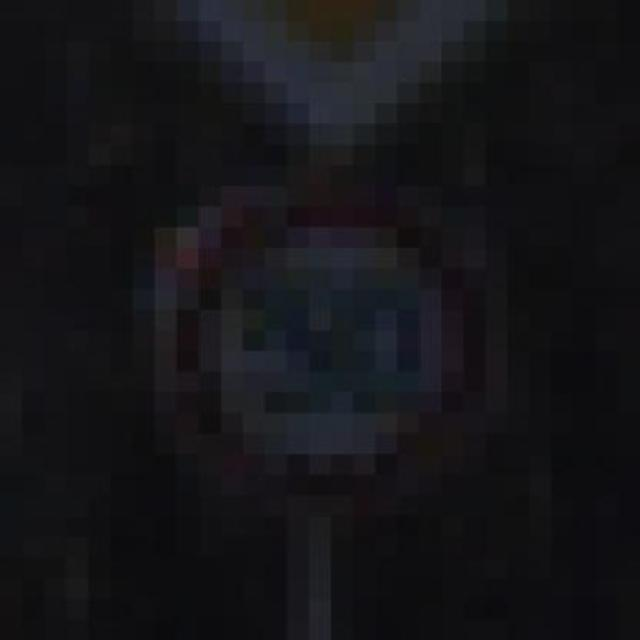50 mph speed limit: (155, 187, 530, 516)
